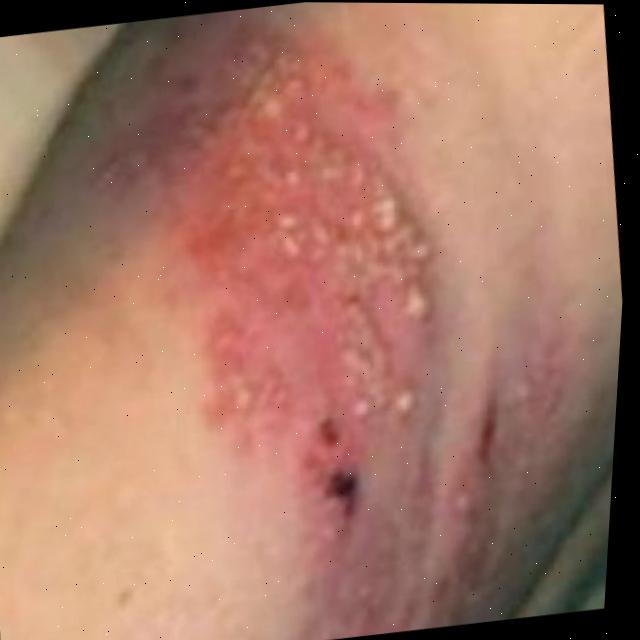Shingles: (92, 1, 611, 640)
